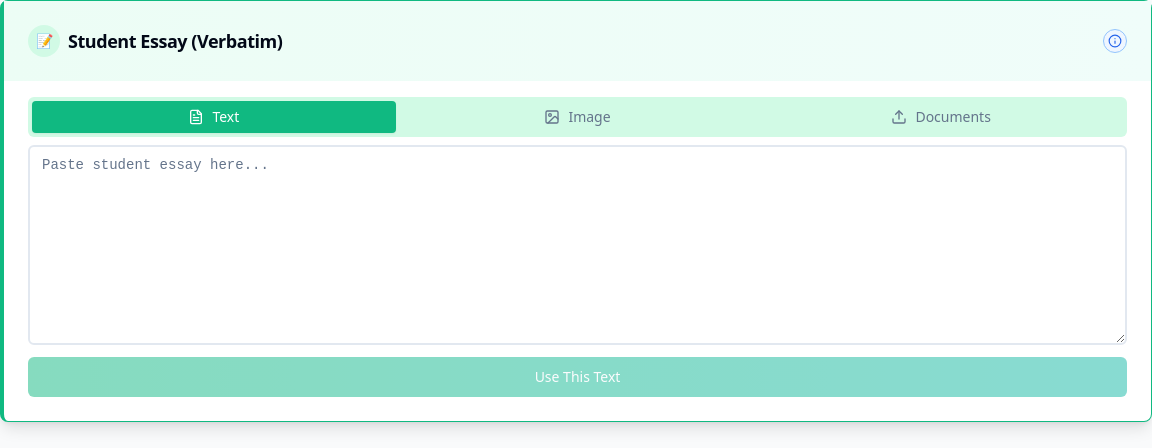
Test case: VerbatimViewer Component › Text Tab › should enable submit button when text is entered
Step 1. Type "Test essay" into the text box with placeholder "Paste student essay here..." → x=578, y=245, box [28,145,1127,345]
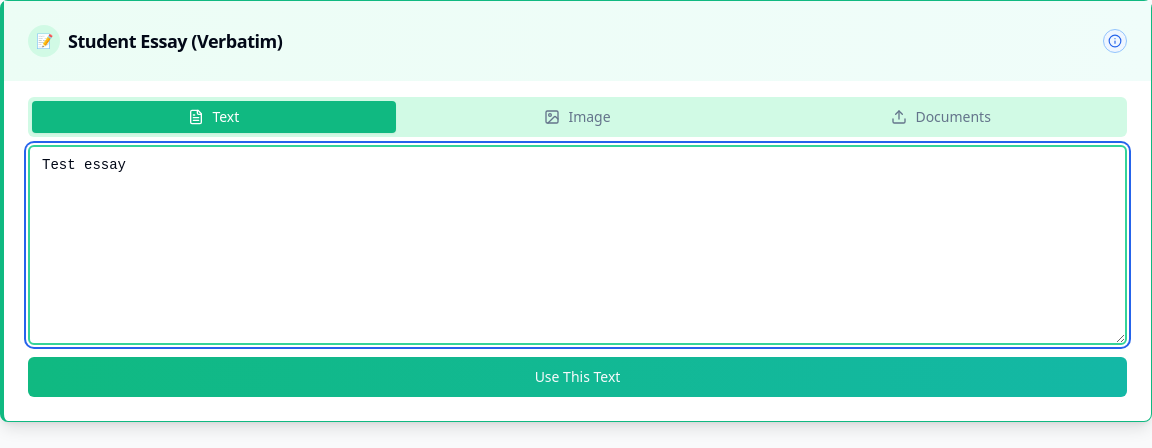
Result: the button "Use This Text" is enabled at [28,357,1127,397]
